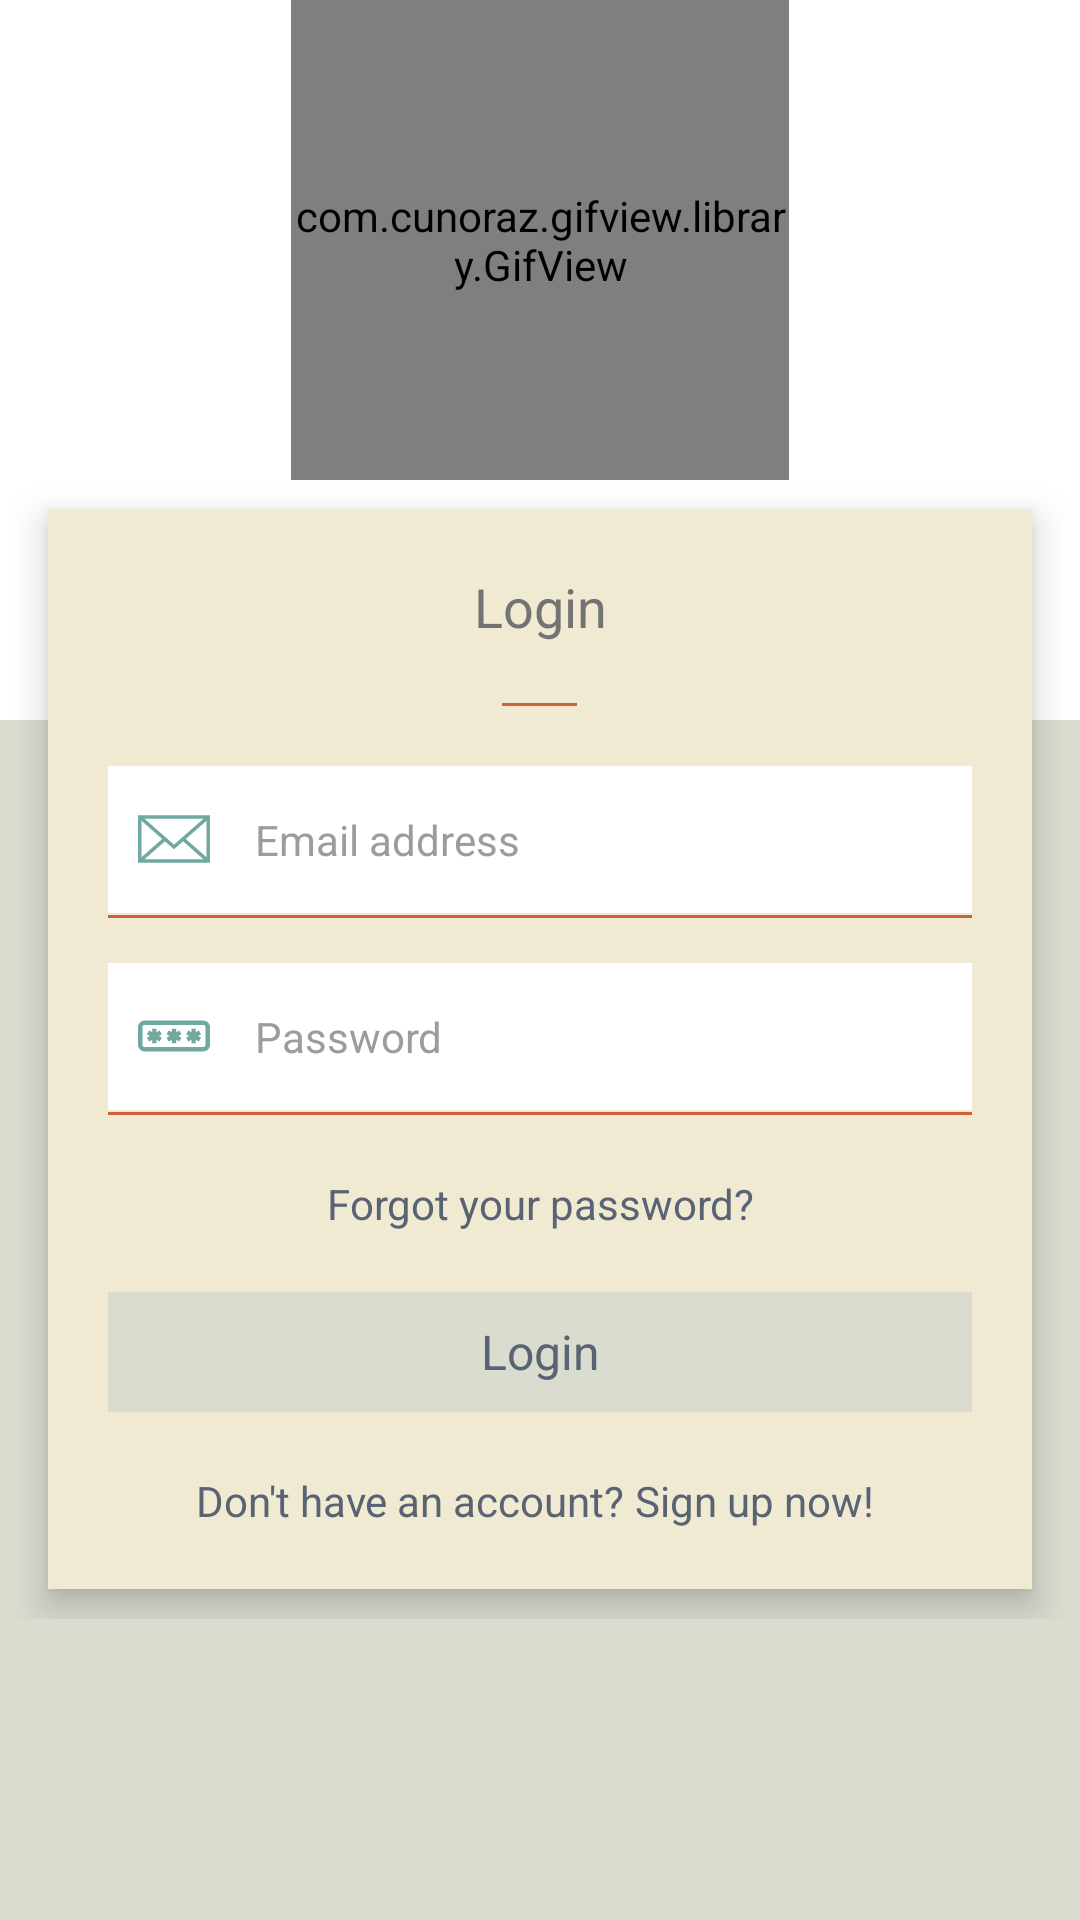

Where to tap for icons on this 1080 x 1920 app screen, as (x=x, y=y):
mail envelope: (x=174, y=839)
